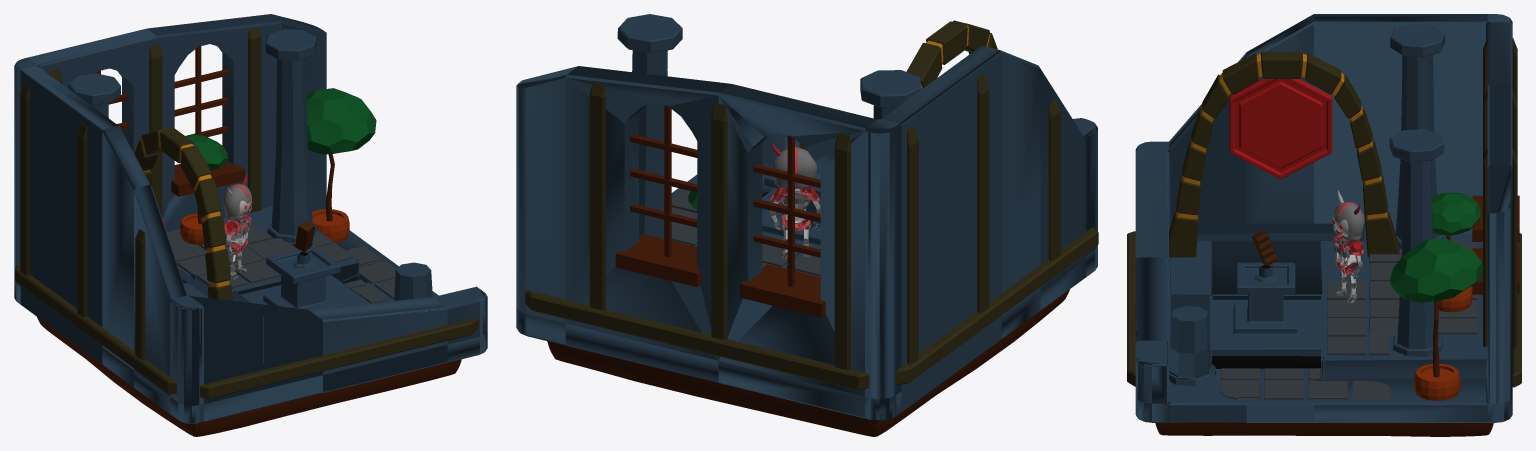
File: GameArtGrundscene_0002_bread_004_past.fbx
The picture shows the model from 3 angles, left to right: view 1: azimuth 30°, elevation 25°; view 2: azimuth 150°, elevation 25°; view 3: azimuth 270°, elevation 25°; orthographic projection. The views are drawn at different scales.
Visible parts, largest first — view 1: Walls, Pillar, Bottom, Portal, Würfel_9, Altar, Platonischer_Körper_4, Würfel_5_2, Würfel_4_3, Würfel_1_2, TempleFloor, Würfel_7_2 (+17 smaller); view 2: Walls, Bottom, Würfel_8, Pillar, Würfel_5_2, Würfel_2_3, Würfel_3_2, Würfel_4_2, Würfel_1_2, Würfel_1_5, Würfel_6_3, Würfel_7_2 (+15 smaller); view 3: Walls, TempleFloor, Portal, Emblem, Altar, Pillar, Pillar_2, Platonischer_Körper_4, Bottom, Pillar_1, Podium, Platonischer_Körper (+30 smaller).
Boxes of the visible parts, x1,y1,x2,y2 form: Walls: (14,14,487,424); Pillar: (265,29,317,242); Bottom: (37,317,461,436); Portal: (134,127,232,300); Würfel_9: (200,318,478,398); Altar: (240,246,370,309); Platonischer_Körper_4: (306,88,376,154); Würfel_5_2: (15,265,176,393); Würfel_4_3: (248,27,261,212); Würfel_1_2: (77,123,87,317); TempleFloor: (167,206,359,302); Würfel_7_2: (20,81,29,275); Walls: (516,45,1097,421); Bottom: (547,289,1069,436); Würfel_8: (525,290,869,390); Pillar: (617,14,682,240); Würfel_5_2: (895,227,1098,384); Würfel_2_3: (711,103,727,339); Würfel_3_2: (834,133,850,369); Würfel_4_2: (589,82,605,310); Würfel_1_2: (977,74,989,312); Würfel_1_5: (615,234,701,287); Würfel_6_3: (740,264,825,317); Würfel_7_2: (907,125,918,364); Walls: (1135,14,1512,422); TempleFloor: (1169,233,1487,379); Portal: (1169,51,1399,257); Emblem: (1229,78,1332,179); Altar: (1211,262,1322,356); Pillar: (1389,129,1444,356); Pillar_2: (1390,23,1445,249); Platonischer_Körper_4: (1389,238,1483,302); Bottom: (1155,423,1493,436); Pillar_1: (1169,306,1215,386); Podium: (1197,223,1365,240); Platonischer_Körper: (1432,192,1480,235).
Bounding box in the file's own units: 20.62 × 15.73 × 19.93.
20 materials, 1 textured.
